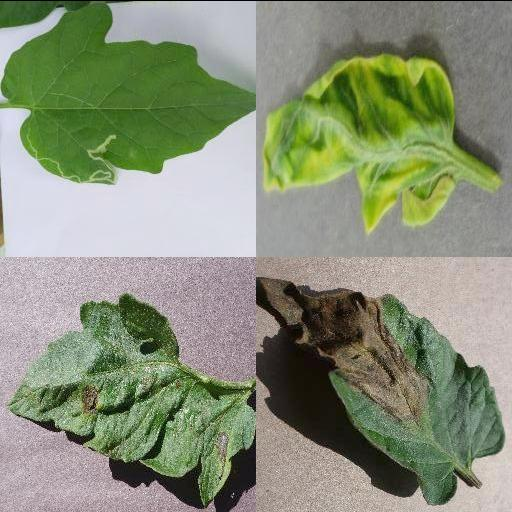Early Blight: (5, 293, 256, 506)
Late Blight: (256, 275, 502, 505)
Leaf Miner: (0, 0, 256, 187)
Yellow Leaf Curl Virus: (262, 52, 454, 236)
